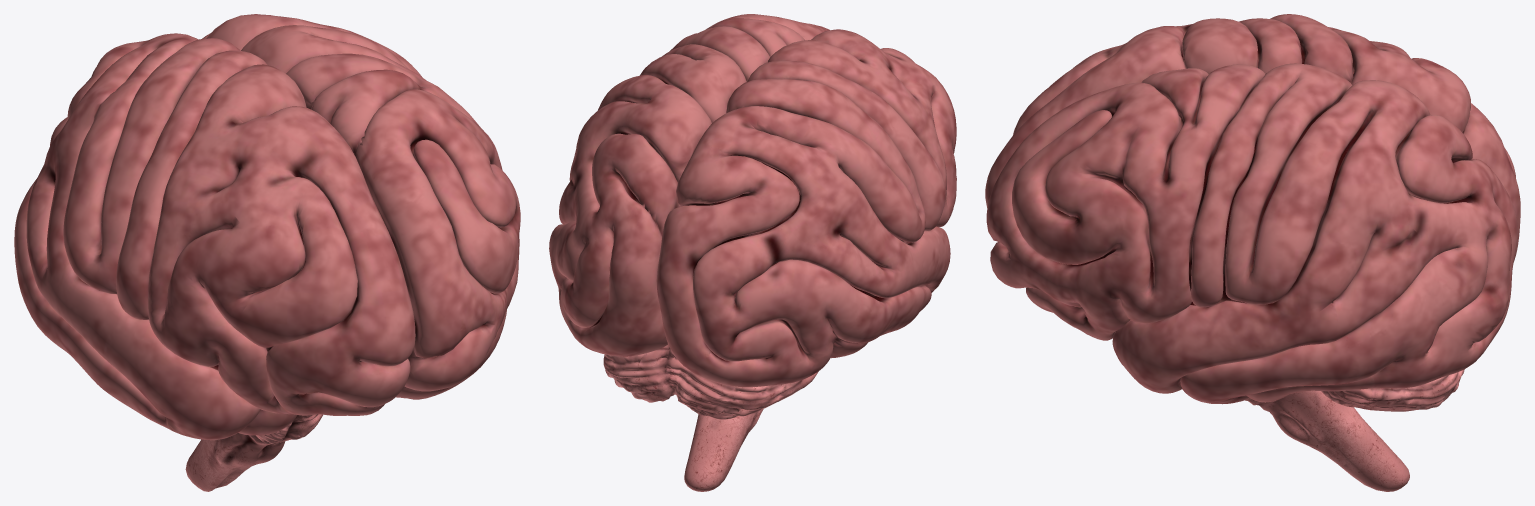
The model's file is brain.glb.
3 renders of one model, left to right at view 1: azimuth 30°, elevation 25°; view 2: azimuth 150°, elevation 25°; view 3: azimuth 270°, elevation 25°, orthographic. The views are drawn at different scales.
Parts seen in each view (by area): view 1: BRAIN_LOW, BRAIN; view 2: BRAIN_LOW, cerebellum, BRAIN; view 3: BRAIN_LOW, BRAIN, cerebellum.
Boxes of the visible parts, x1,y1,x2,y2 form: BRAIN_LOW: (14, 14, 520, 440); BRAIN: (185, 414, 322, 491); BRAIN_LOW: (549, 14, 956, 387); cerebellum: (603, 345, 818, 419); BRAIN: (684, 409, 763, 491); BRAIN_LOW: (985, 14, 1520, 404); BRAIN: (1245, 390, 1409, 491); cerebellum: (1321, 369, 1464, 411).
Bounding box in the file's own units: 4.4 × 5.09 × 5.55.
3 materials, 3 textured.
